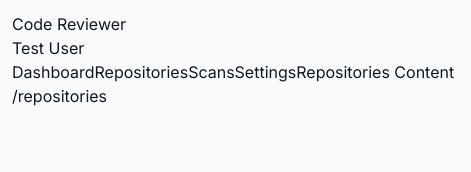
Test: Sidebar Navigation Integration › Navigation Click Behavior › should navigate to dashboard when clicking Dashboard link
Expected: the text "Repositories Content" is shown, 296,60 -> 454,84
Click the link with test id "nav-dashboard": (53, 72) 12,62 -> 94,82
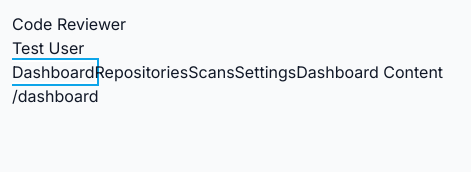
Now the text with test id "current-pathname" reads "/dashboard", box 12,86 -> 98,106
Now the text "Dashboard Content" is shown, box 296,60 -> 443,84
